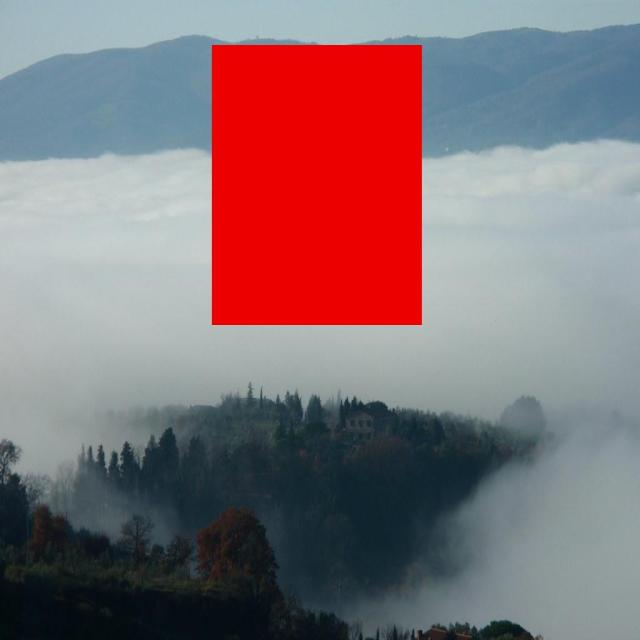RedSquare: (206, 37, 430, 332)
